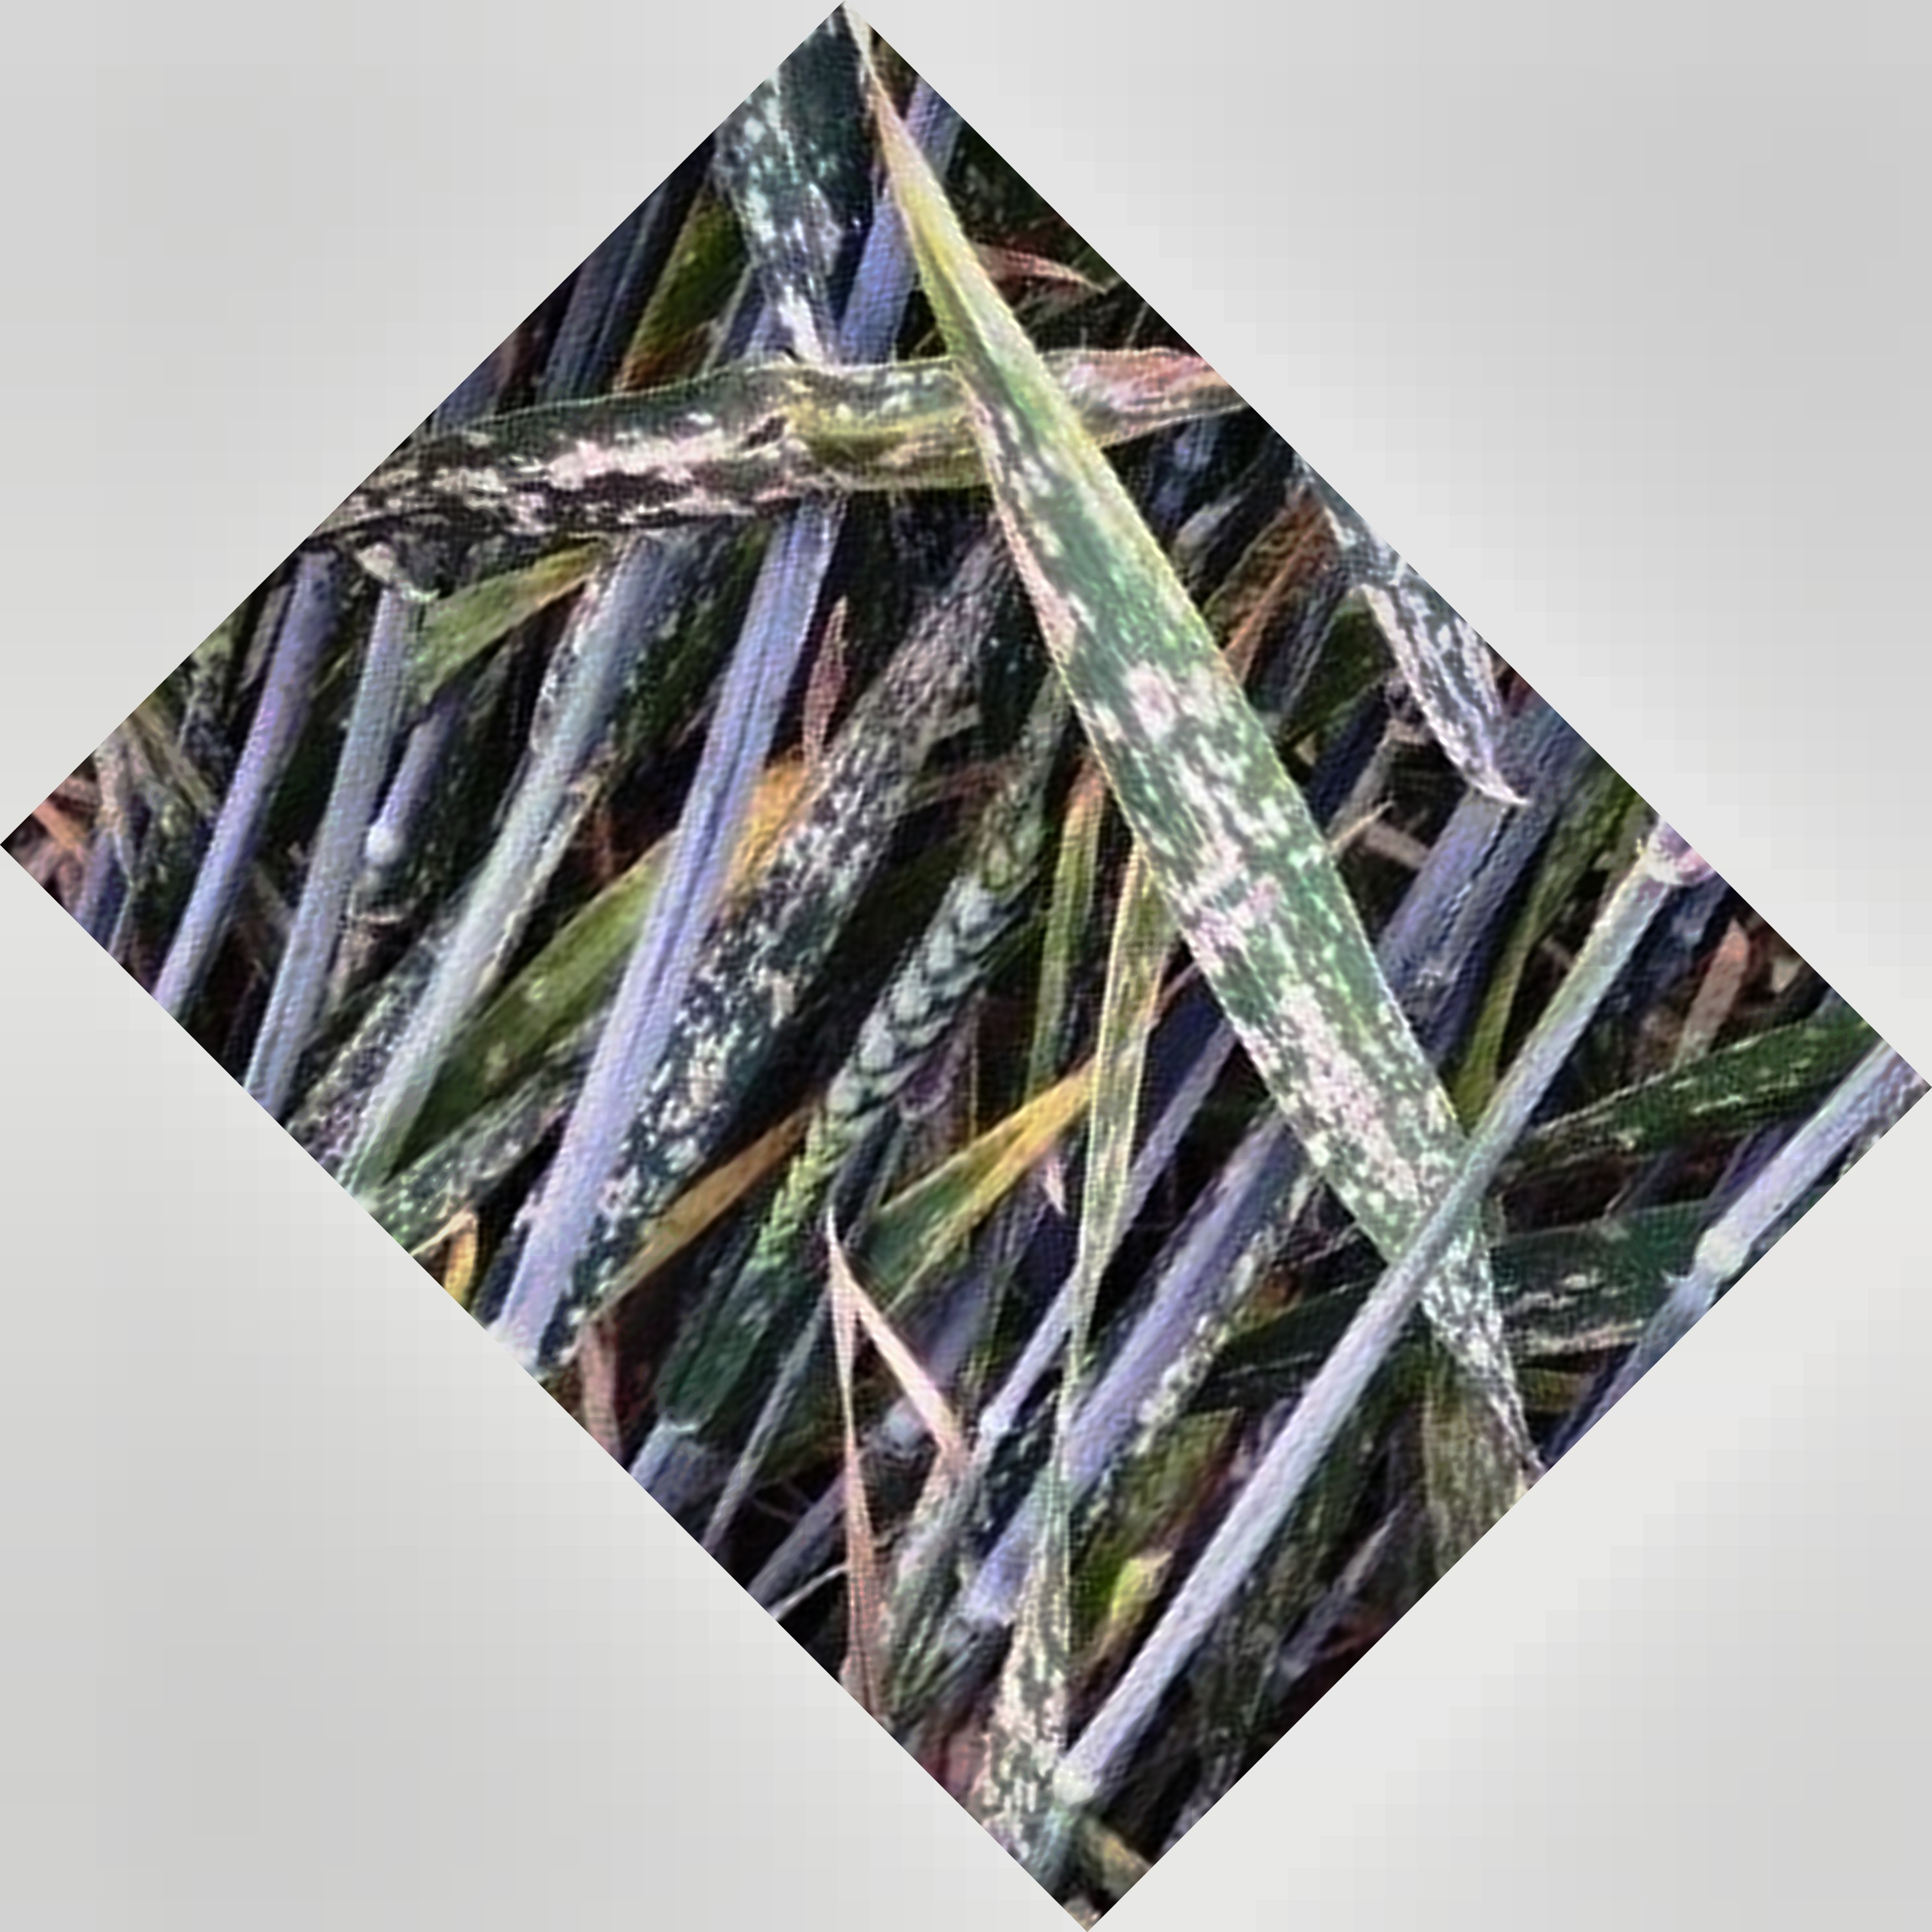Powdery Mildew: (1088, 612, 1523, 1300), (626, 577, 993, 1185)
